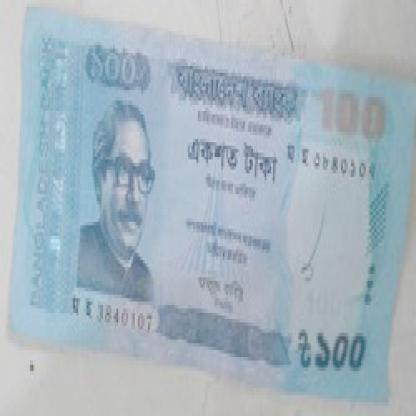one hundred taka: (318, 76, 389, 149), (314, 312, 370, 381), (85, 31, 146, 90)
